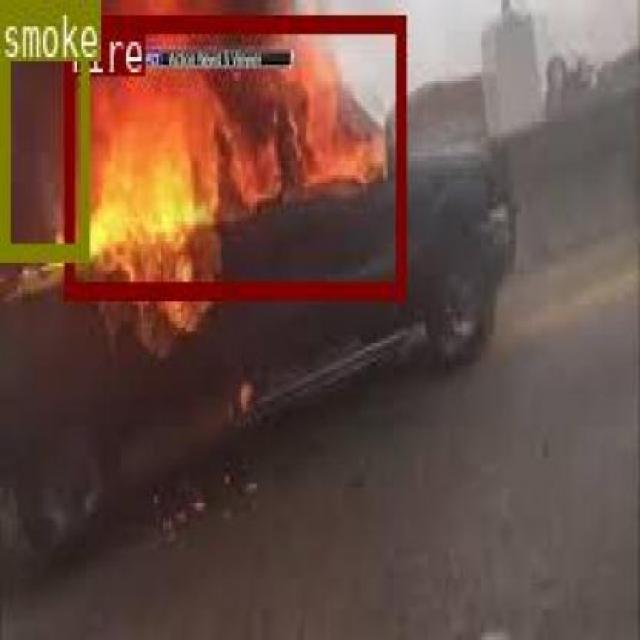Fire: (63, 11, 403, 298)
Smoke: (0, 0, 87, 258)
